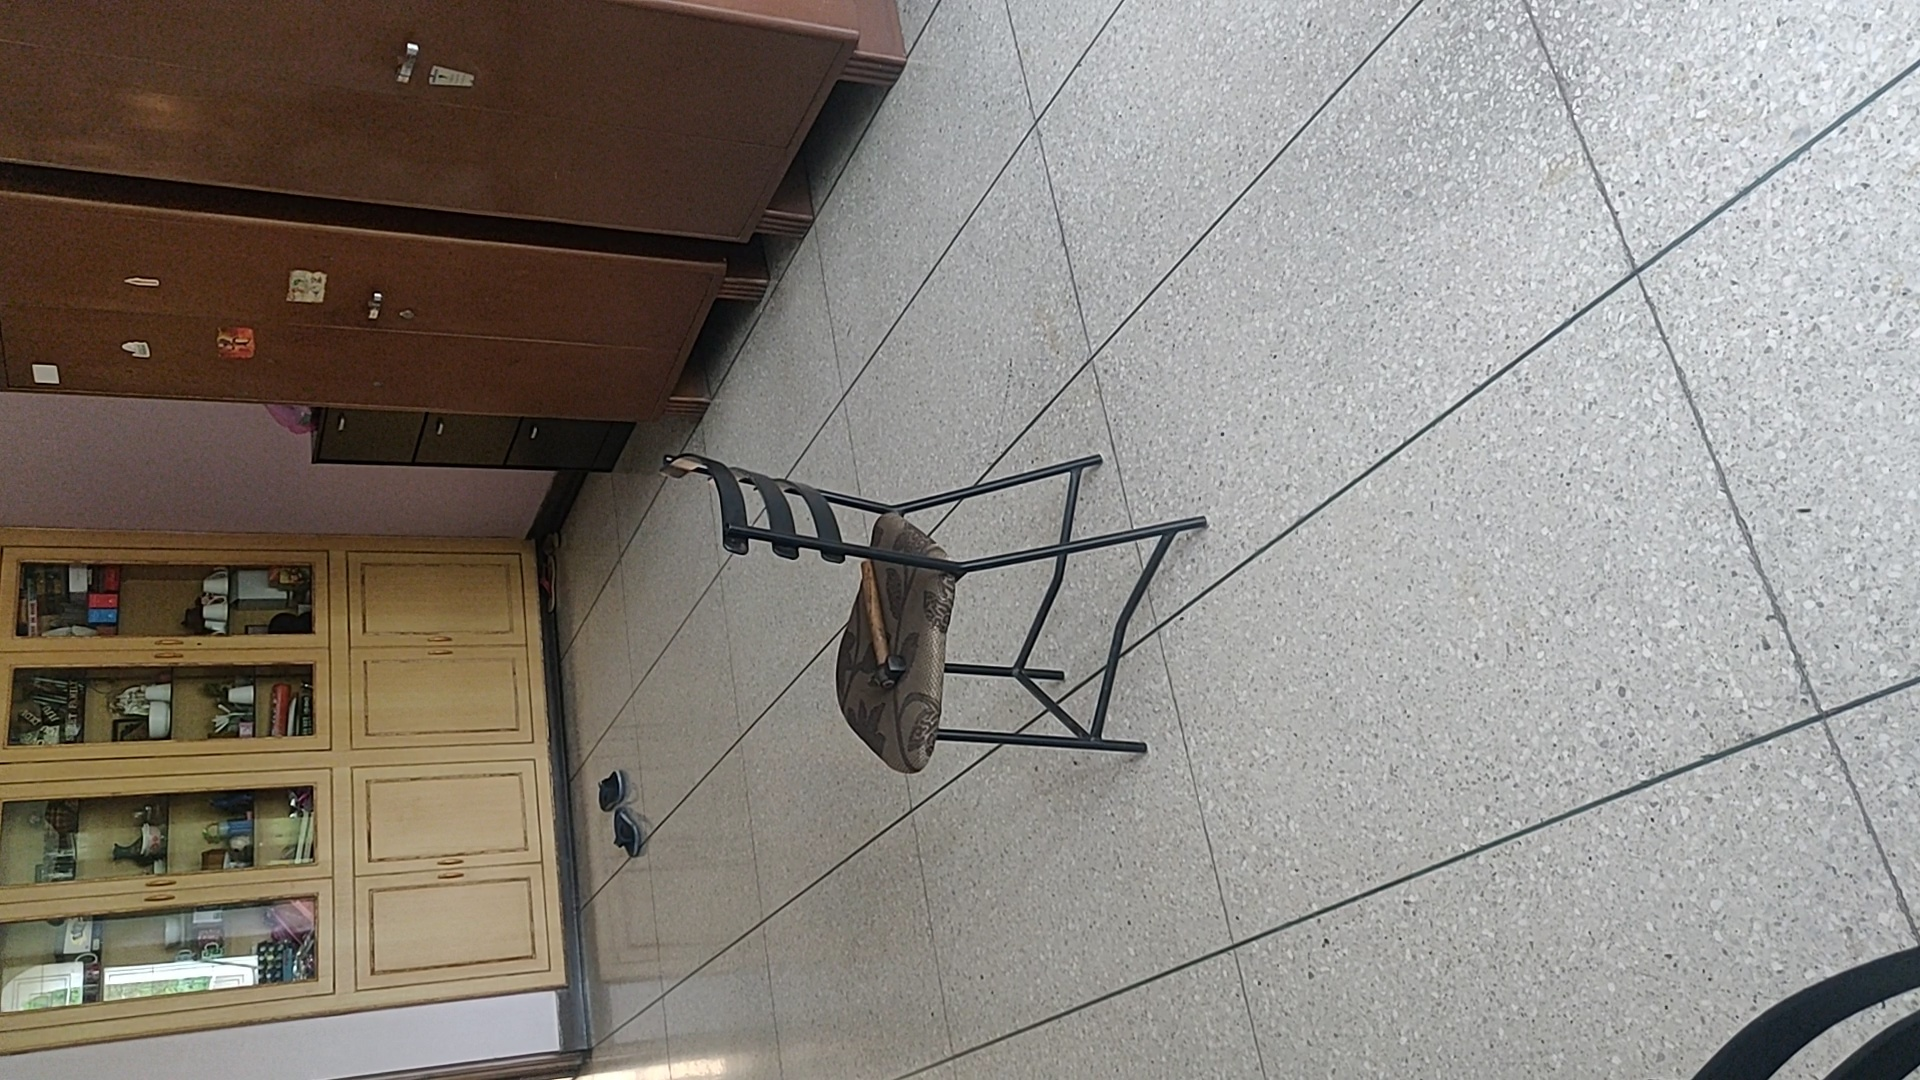hammer: (851, 555, 913, 694)
